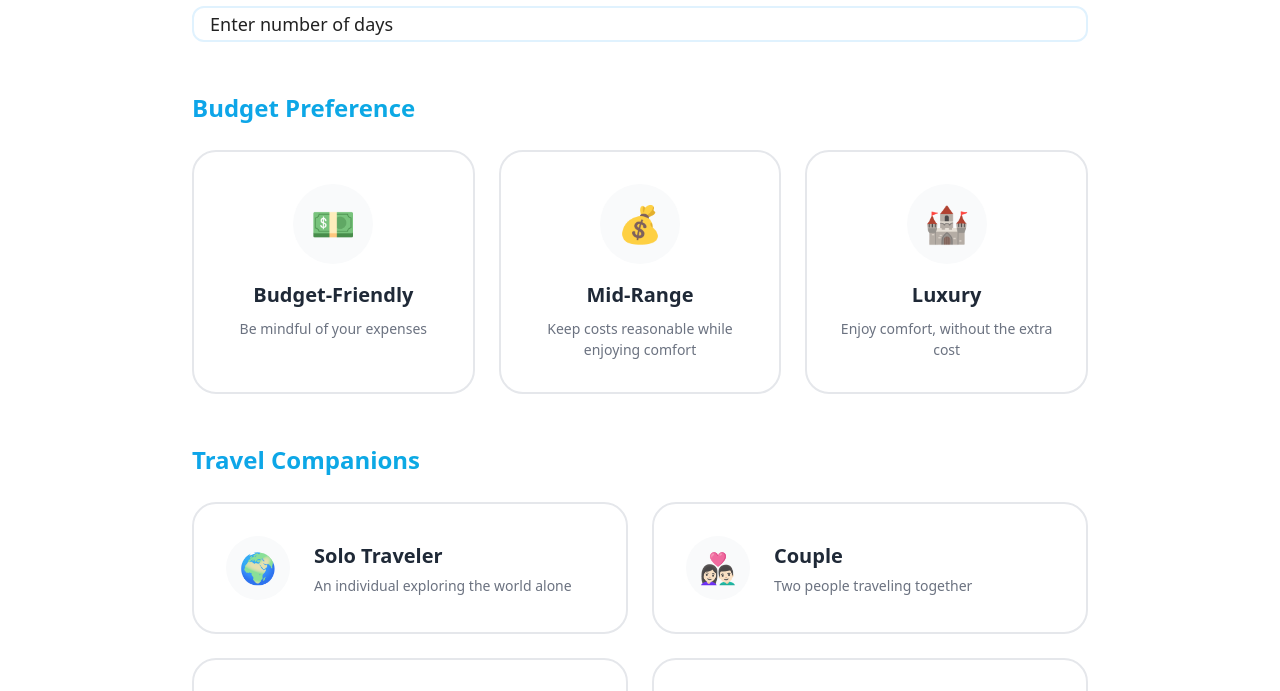
Test case: Trip Generation - Trip successfully generated
(page scrolled)
Type "7" into the number field with placeholder "Enter number of days" at (640, 24), box 192,6 -> 1088,42
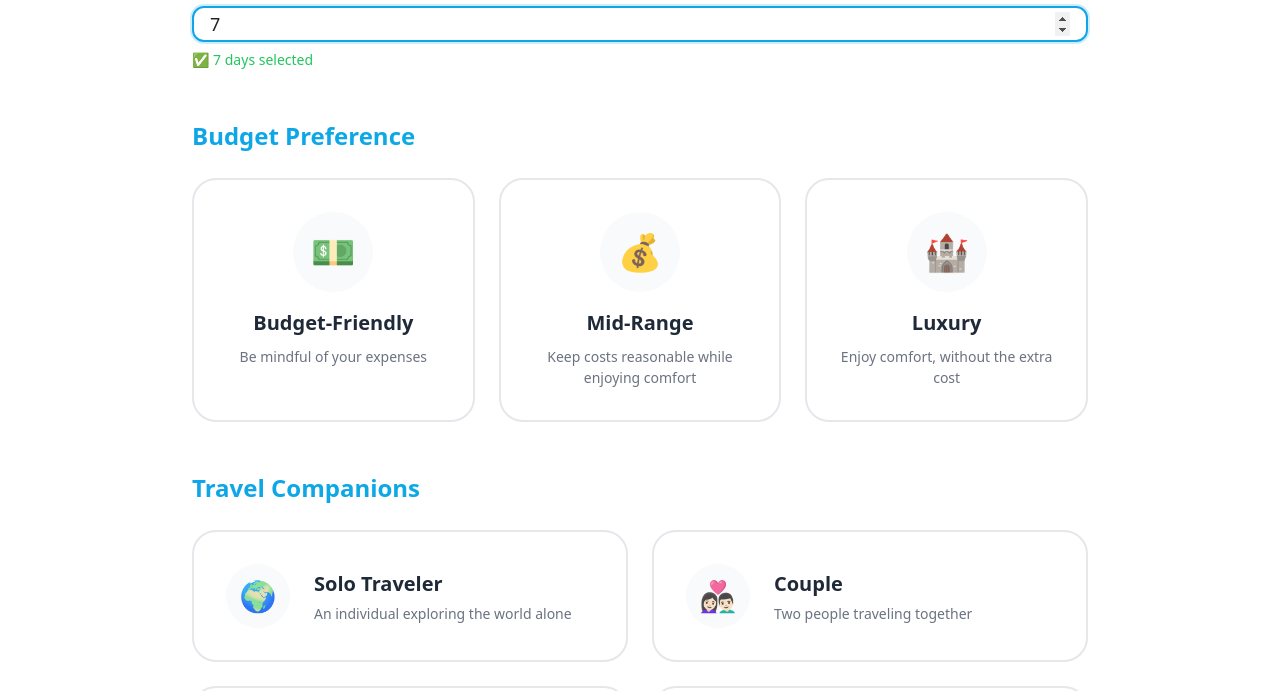
Click the heading "Luxury" at (947, 323), box 912,309 -> 982,336
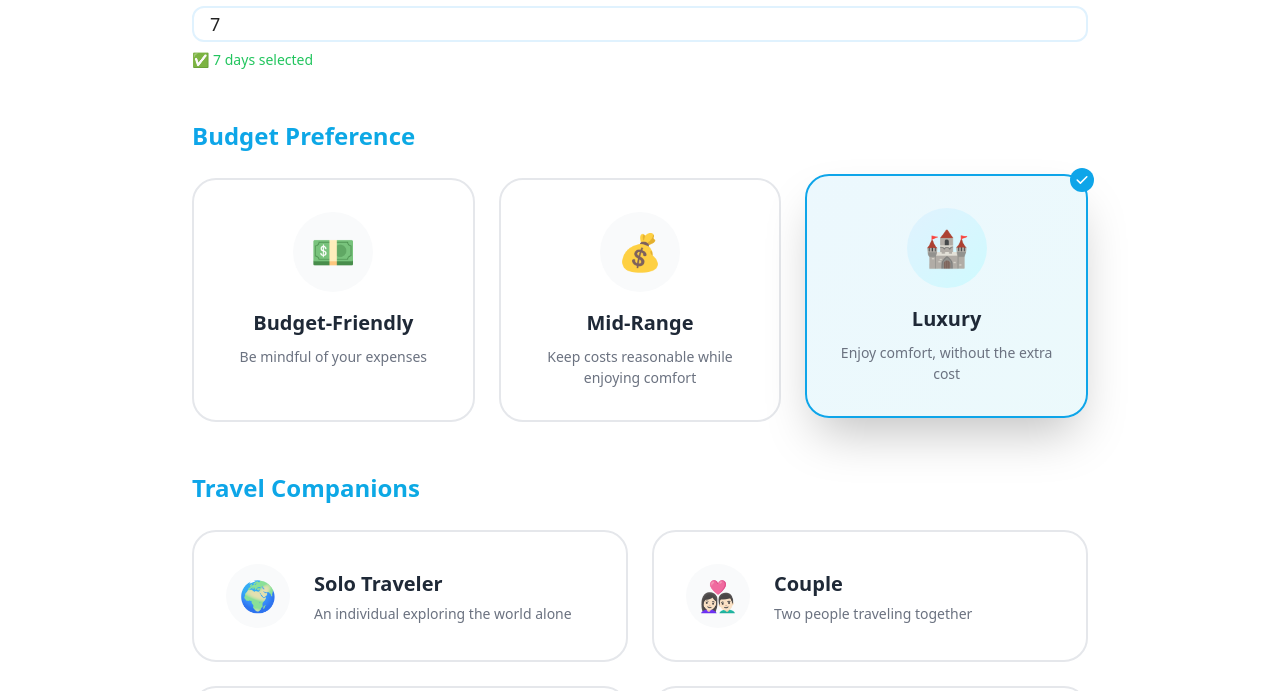
Scroll
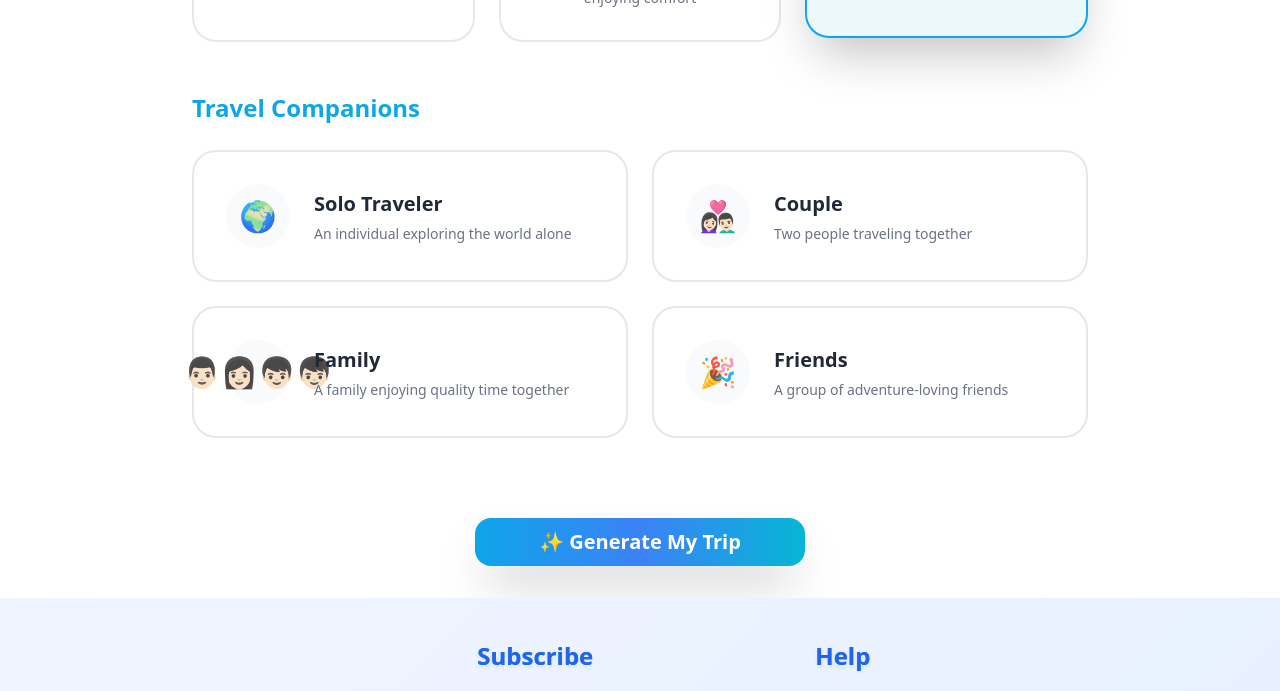
Click the heading "Family" at (347, 360), box 314,346 -> 380,373
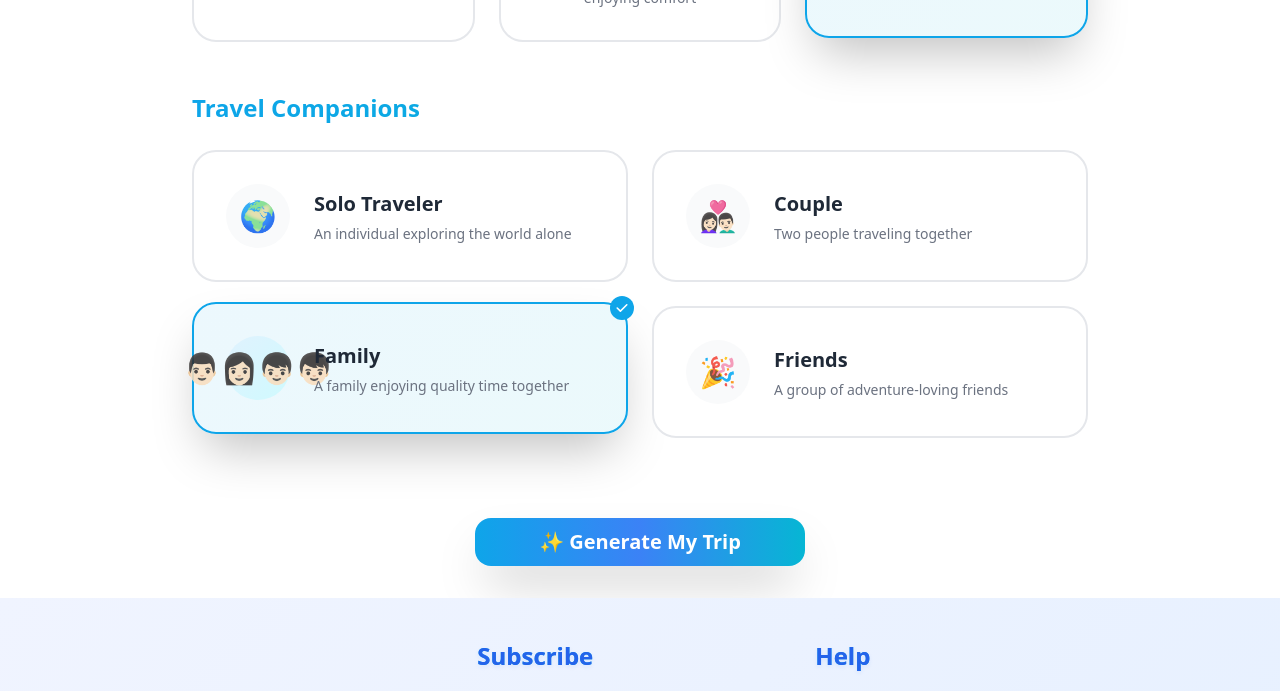
Click the button "✨ Generate My Trip" at (640, 542), box 475,518 -> 805,566
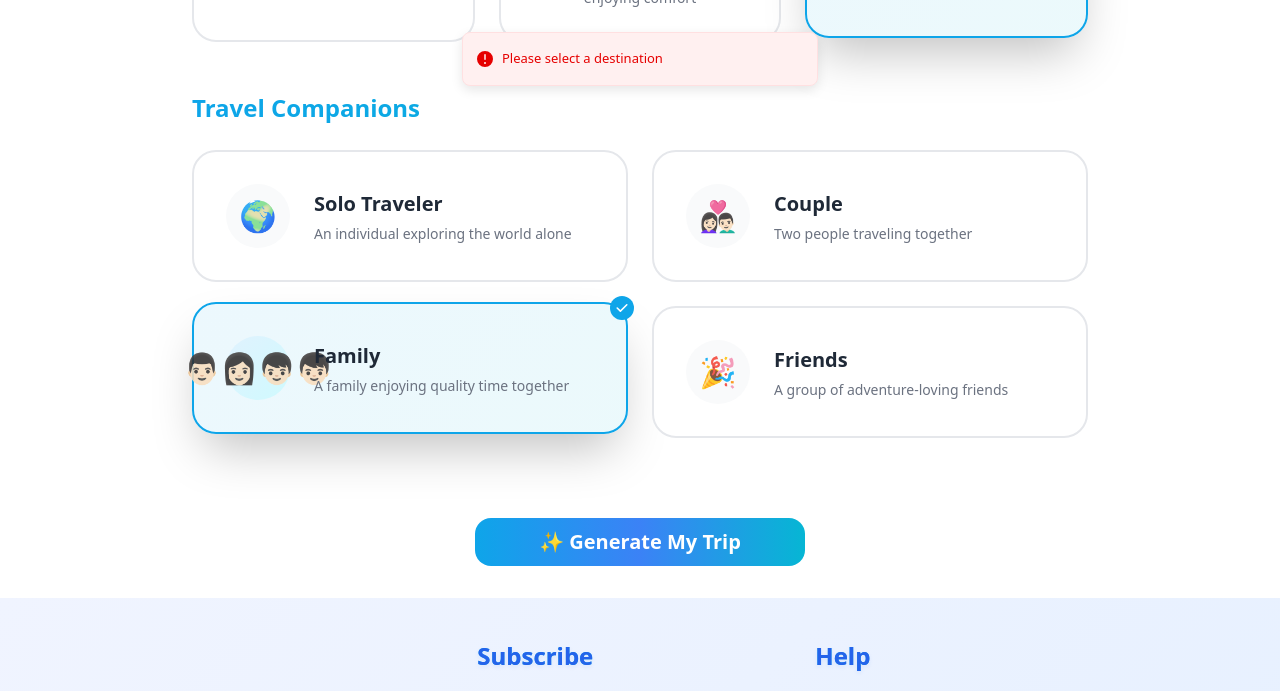
Expected: the text "Please select a destination" is shown, 502,49 -> 663,68
